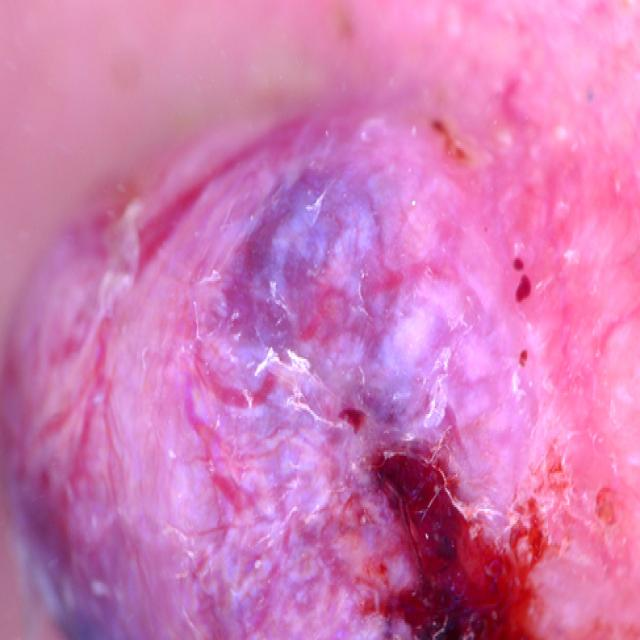Carcinoma: (7, 97, 550, 640)
